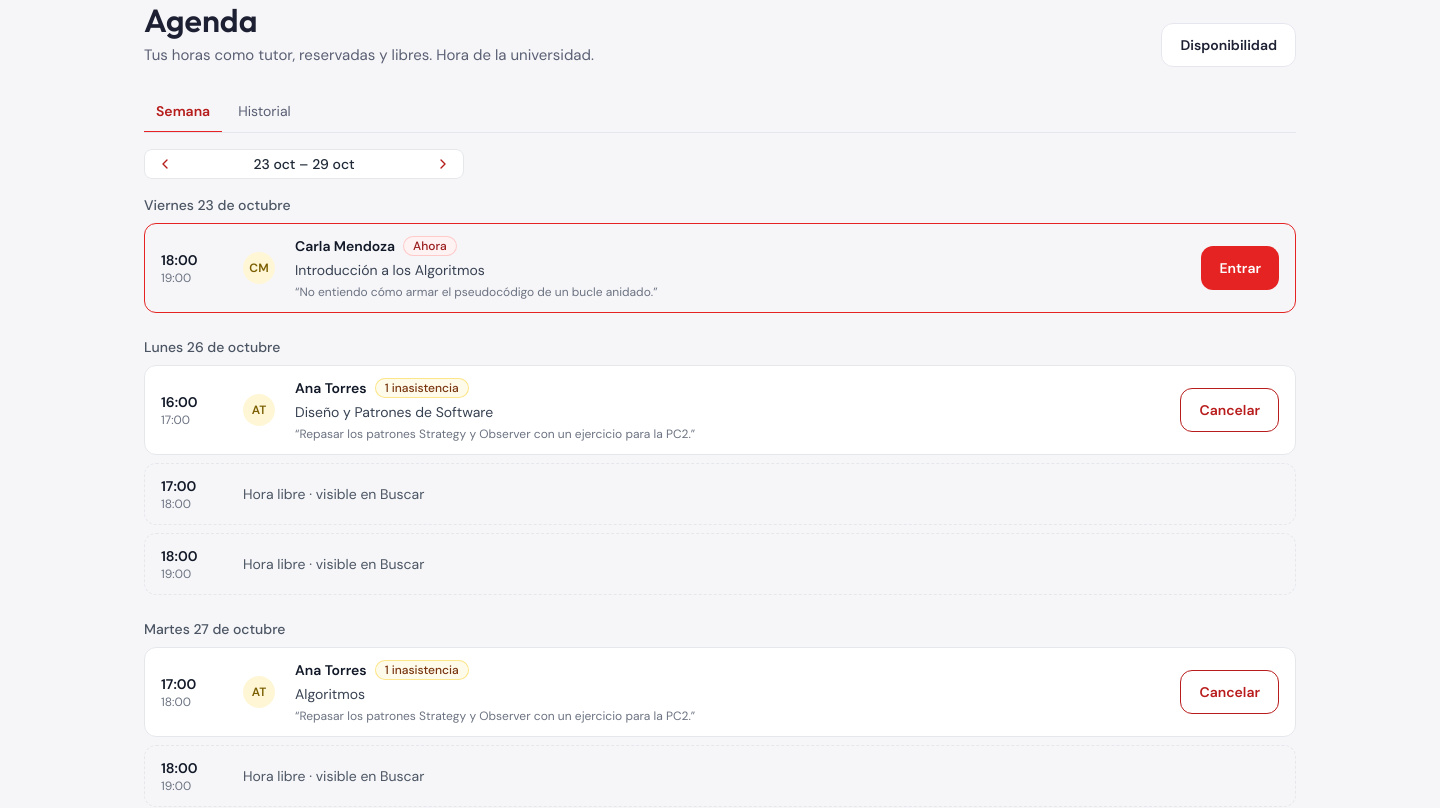
FE-41 tutor agenda › warns before a late tutor cancellation and only cancels after confirmLate=true
Click the button "Cancelar" in the row of "Diseño y Patrones de Software".
click(1230, 410)  # box [1180,388,1279,432]
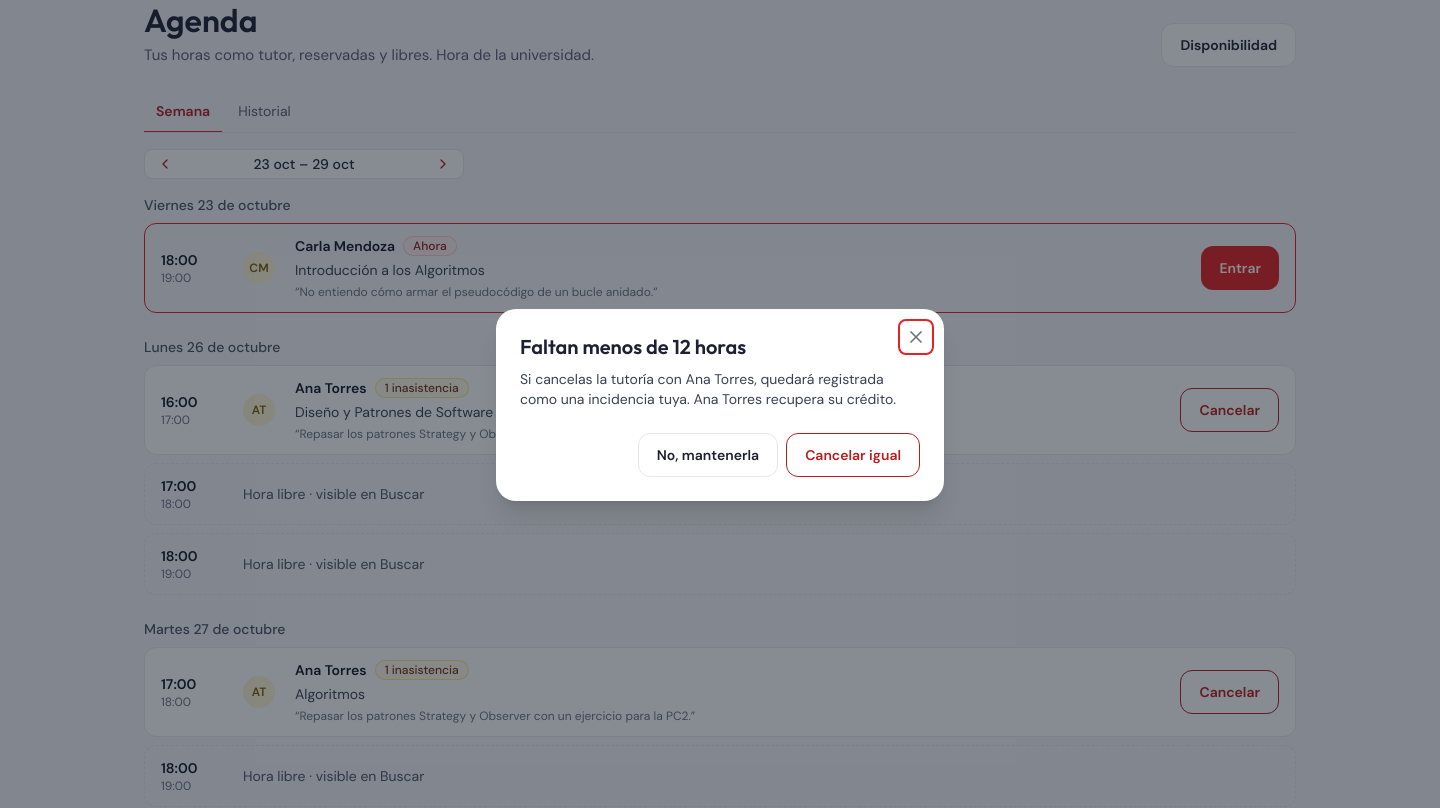
expect the element named "Tutoría con Ana Torres a las 16:00" is shown: met, box [144,364,1296,454]
expect the text "Ana Torres recupera su crédito" is shown: met, box [520,370,896,408]
Click the button "Cancelar igual".
click(853, 455)  # box [786,433,920,477]
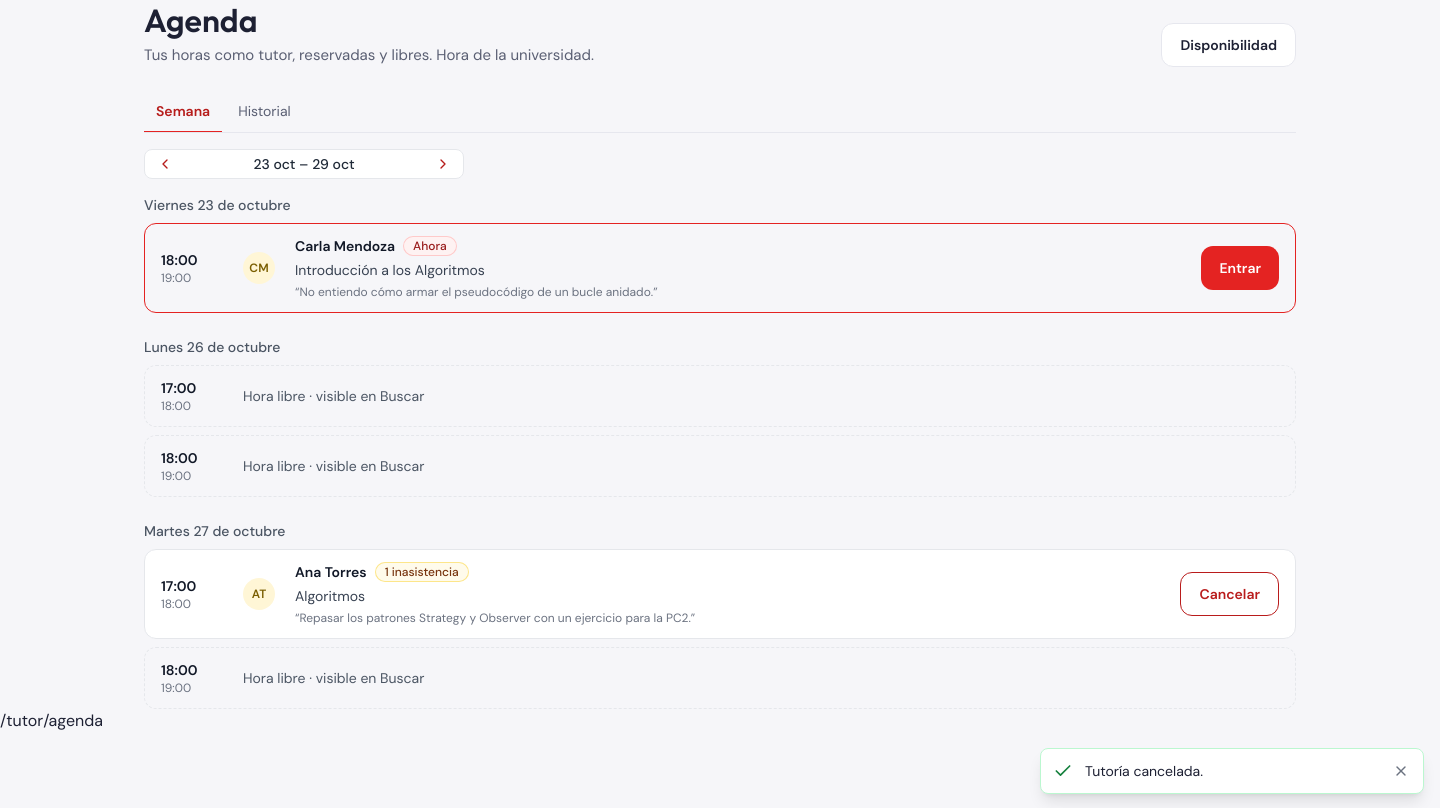
expect the text "Tutoría cancelada." is shown: met, box [1085,762,1203,780]
